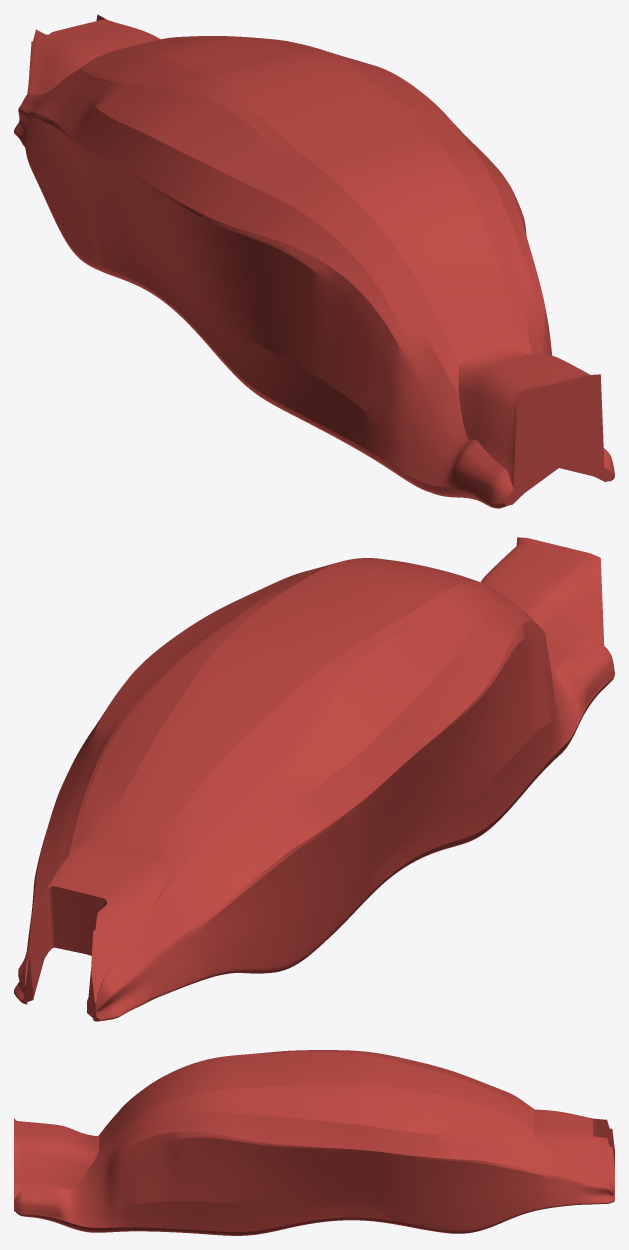
Rendered from sports_tourer_2.glb.
The picture shows the model from 3 angles, top to bottom: view 1: azimuth 30°, elevation 25°; view 2: azimuth 150°, elevation 25°; view 3: azimuth 270°, elevation 25°; orthographic projection. The views are drawn at different scales.
Visible parts, largest first — view 1: lod0; view 2: lod0; view 3: lod0.
Part boxes in pixels (x1,y1,x2,y2): lod0: (14, 14, 614, 508); lod0: (14, 537, 614, 1021); lod0: (14, 1050, 614, 1235).
Size of what is drawn, in the model's own units: 0.422 by 0.3442 by 1.29.
